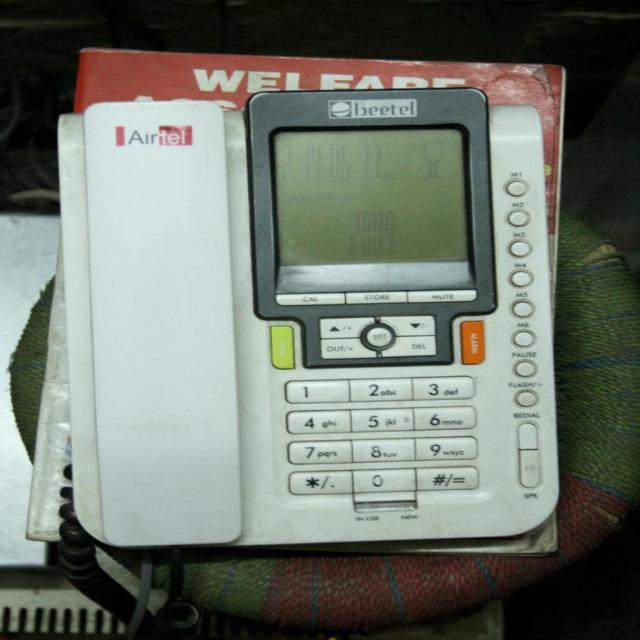Phone: (0, 89, 560, 639)
